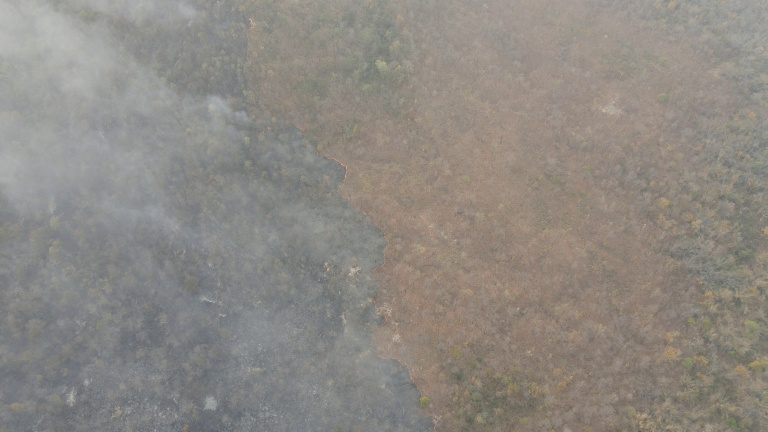smoke: (1, 11, 442, 427)
